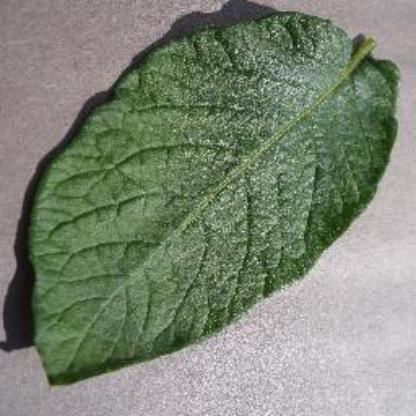Healthy-plant: (20, 10, 406, 390)
